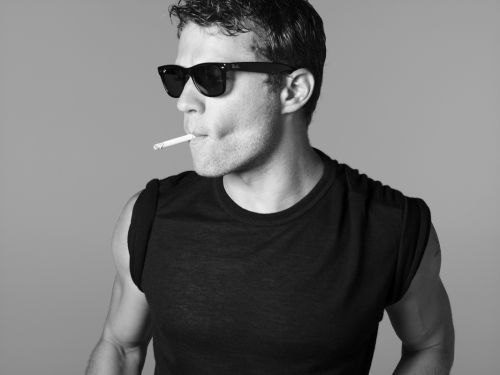cigarette: (146, 131, 198, 152)
